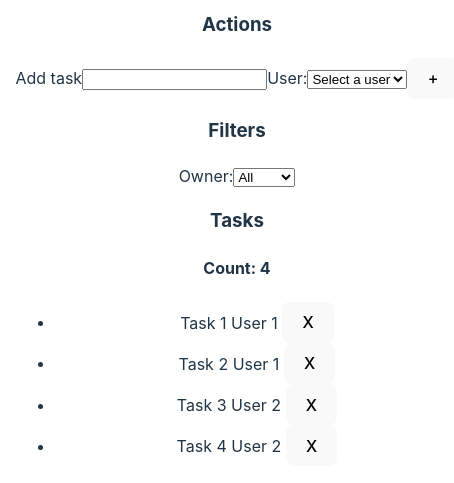
Test: Tasks Integration (only necessary dependencies) › should reflect changes in filters in all applicable views
Expected: the list item "Task 1 User 1 X" is shown, [180,302,334,343]
Expected: the list item "Task 2 User 1 X" is shown, [178,343,335,384]
Select "User 1" in the dropdown labelled "Owner:". click: (264, 178)
box: [233,168,295,187]
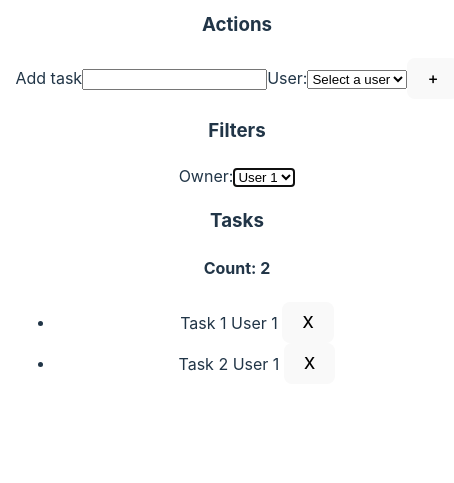
Expected: the list item "Task 1 User 1 X" is shown, [180,302,334,343]
Now the heading "Count: 2" is shown, box [204,258,270,278]
Select "User 2" in the dropdown labelled "Owner:". click: (264, 178)
box: [233,168,295,187]
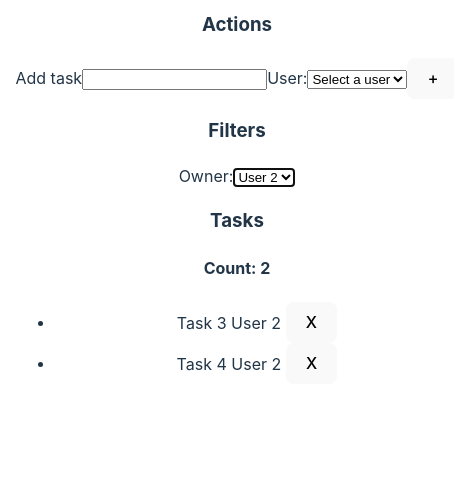
Now the heading "Count: 2" is shown, box [204,258,270,278]
Now the list item "Task 3 User 2 X" is shown, box [177,302,337,343]
Now the list item "Task 4 User 2 X" is shown, box [177,343,337,384]
Select "All" in the dropdown labelled "Owner:". click: (264, 178)
box: [233,168,295,187]
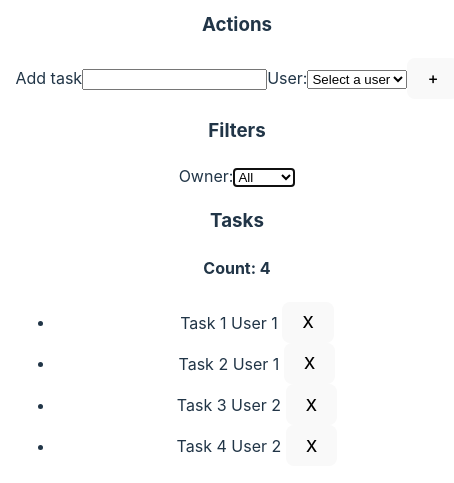
Now the list item "Task 3 User 2 X" is shown, box [177,384,337,425]
Now the list item "Task 1 User 1 X" is shown, box [180,302,334,343]
Now the list item "Task 2 User 1 X" is shown, box [178,343,335,384]
